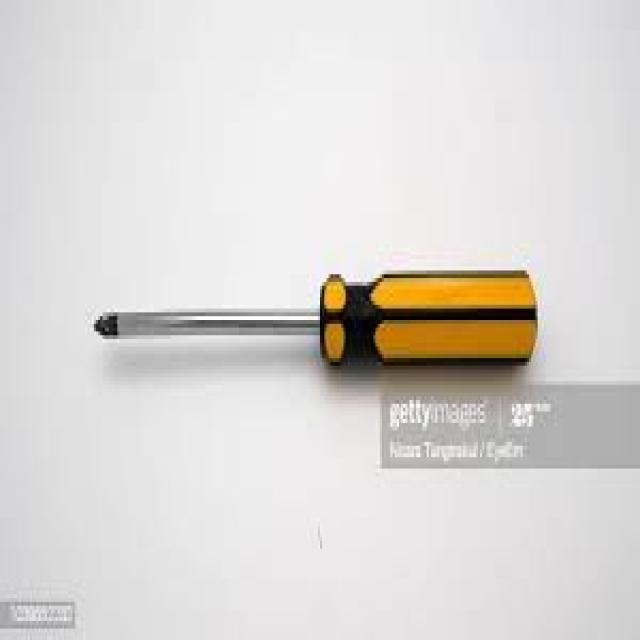screw driver: (85, 226, 548, 435)
